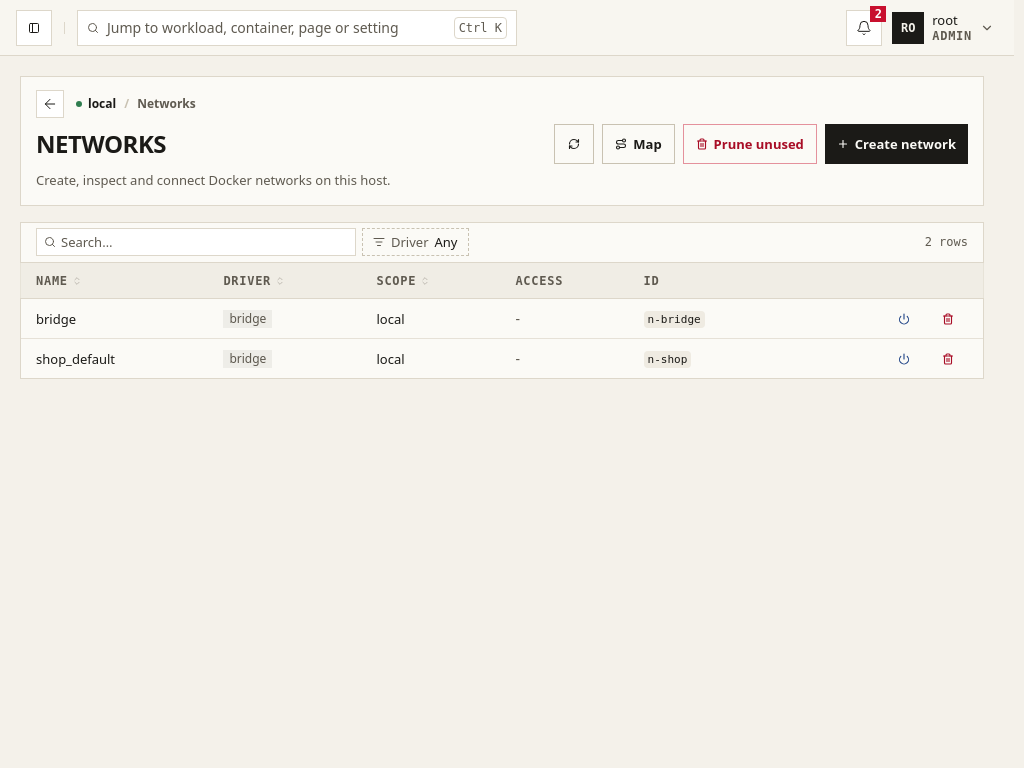
Test: networks page › removes and prunes
The image size is (1024, 768).
Click the button named "remove shop_default" at (948, 359), box [928, 339, 968, 379]
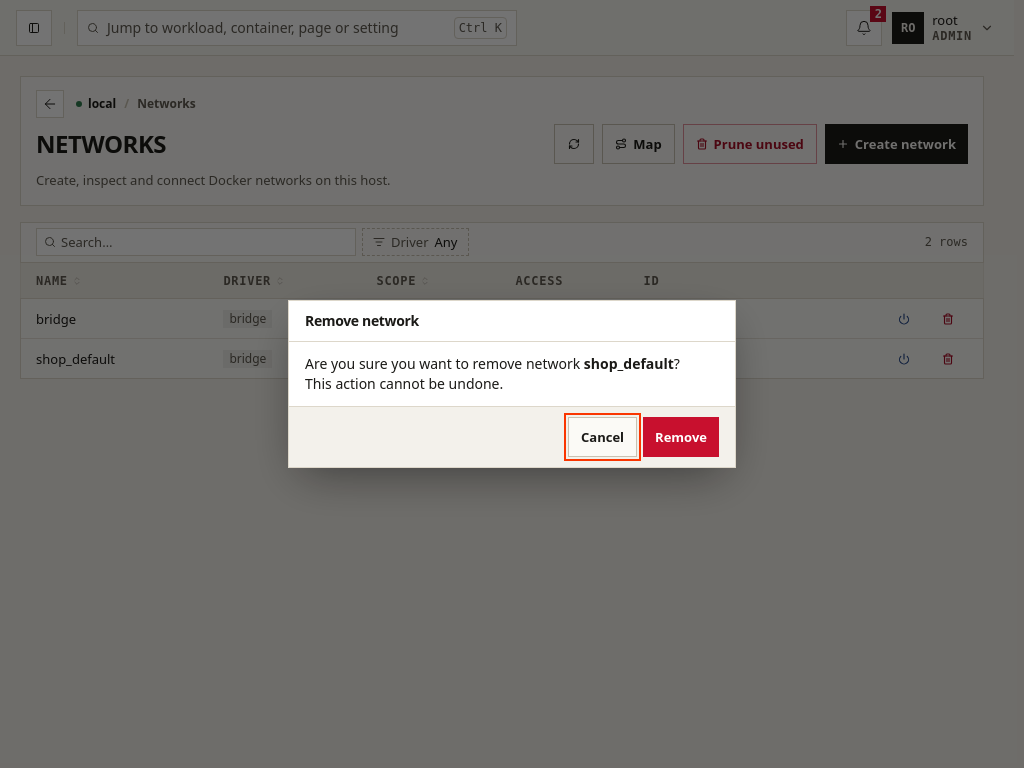
Click the button "Remove" at (681, 437), box [643, 417, 719, 457]
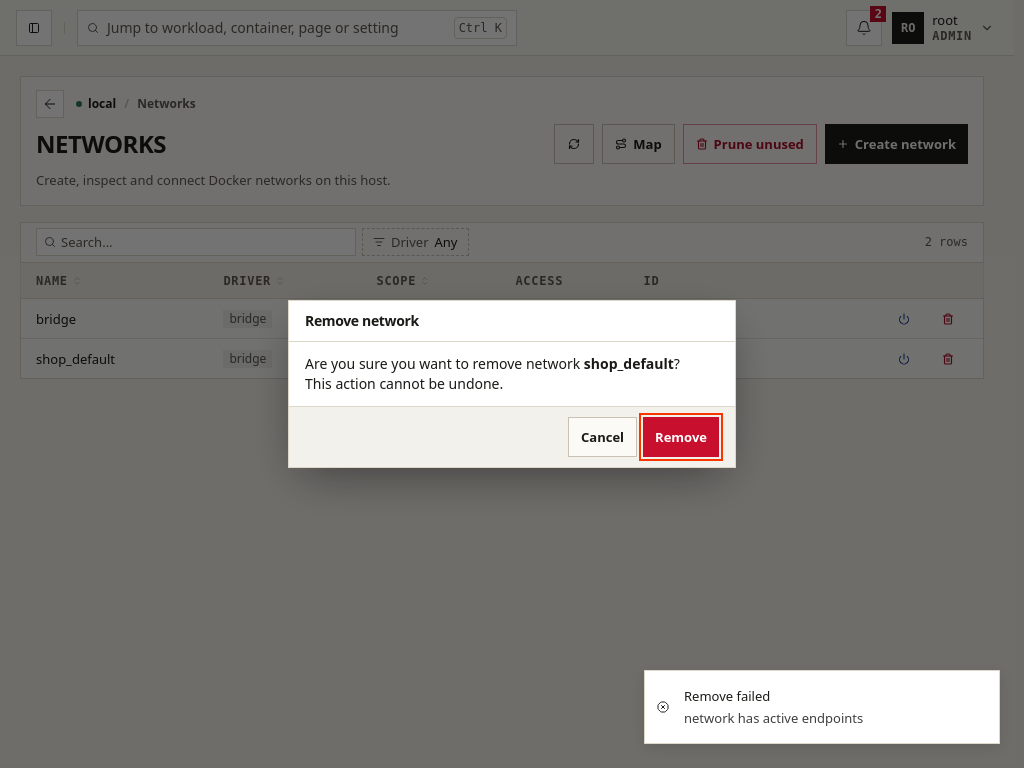
Expected: the text "network has active endpoints" is shown, [684, 709, 863, 727]
Click the button "Cancel" at (603, 437), box [568, 417, 637, 457]
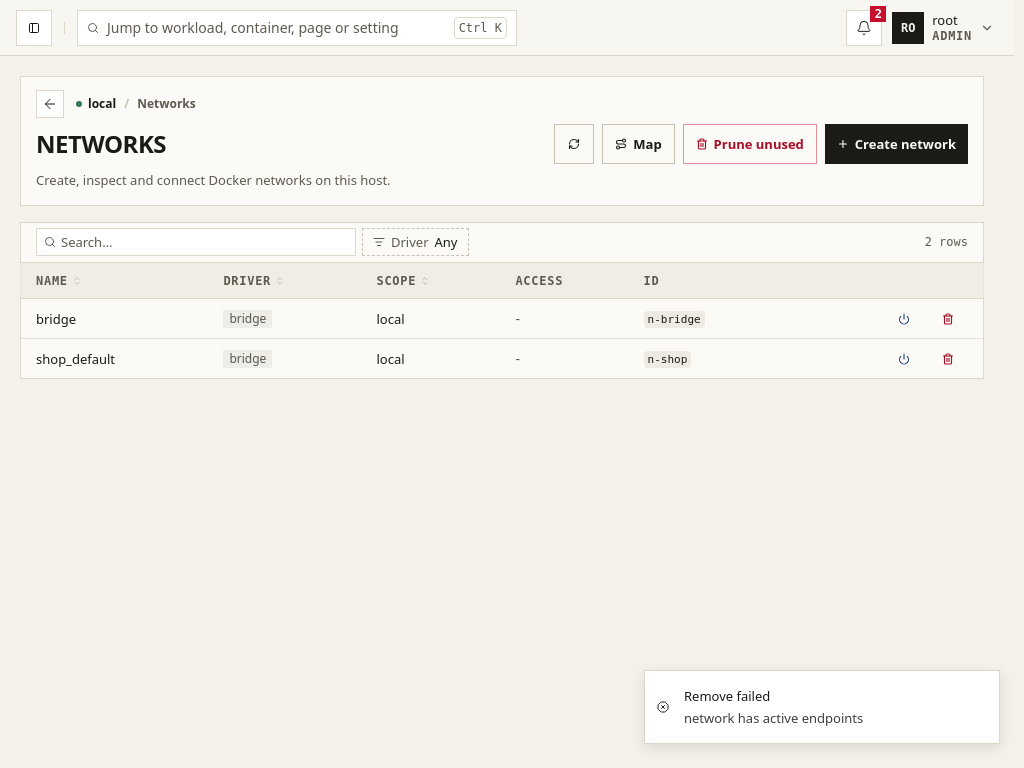
Click the button "Prune unused" at (750, 144), box [683, 124, 817, 164]
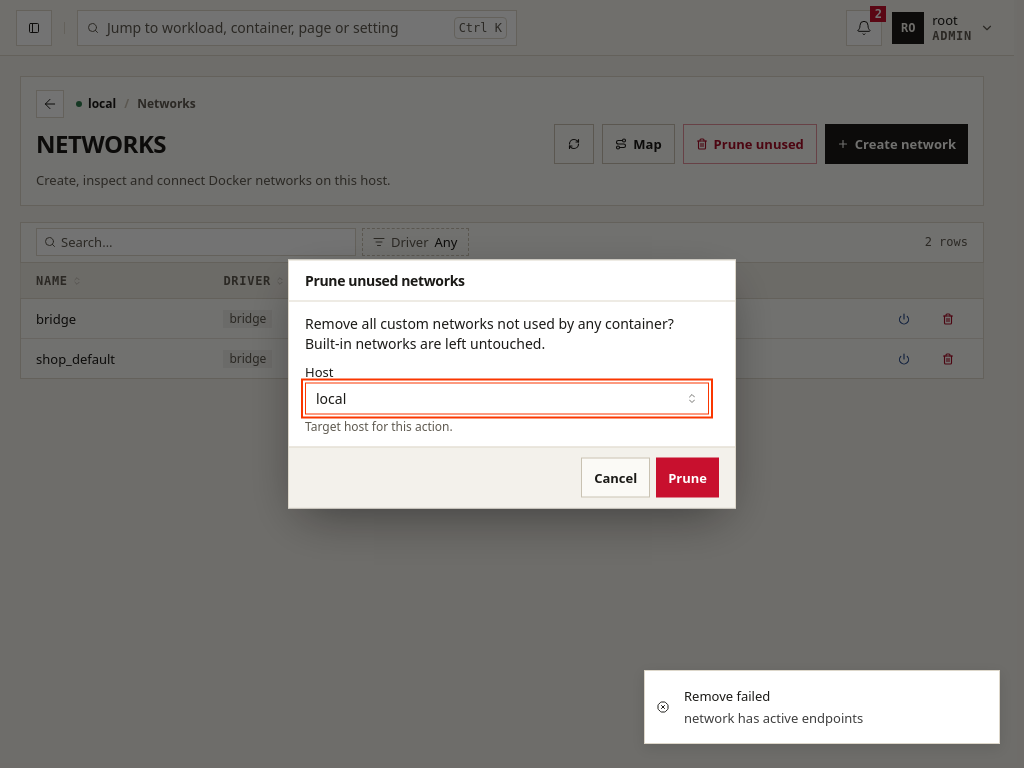
Click the button "Prune" at (688, 478), box [656, 458, 719, 498]
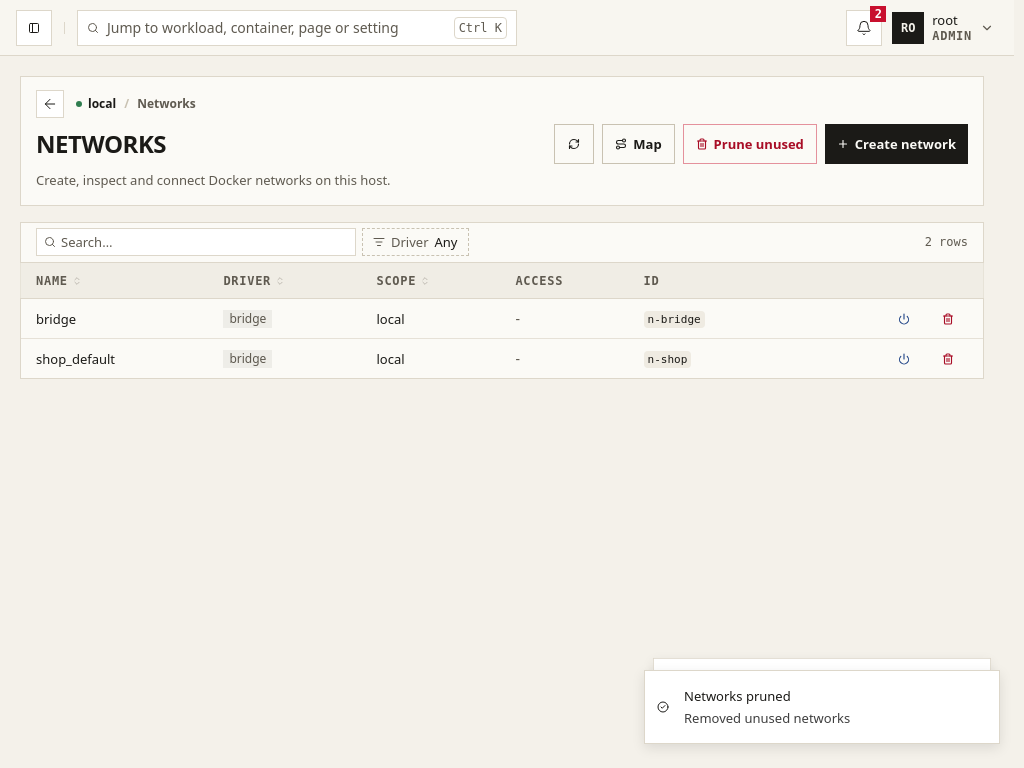
Expected: the text "Networks pruned" is shown, [684, 687, 791, 705]
